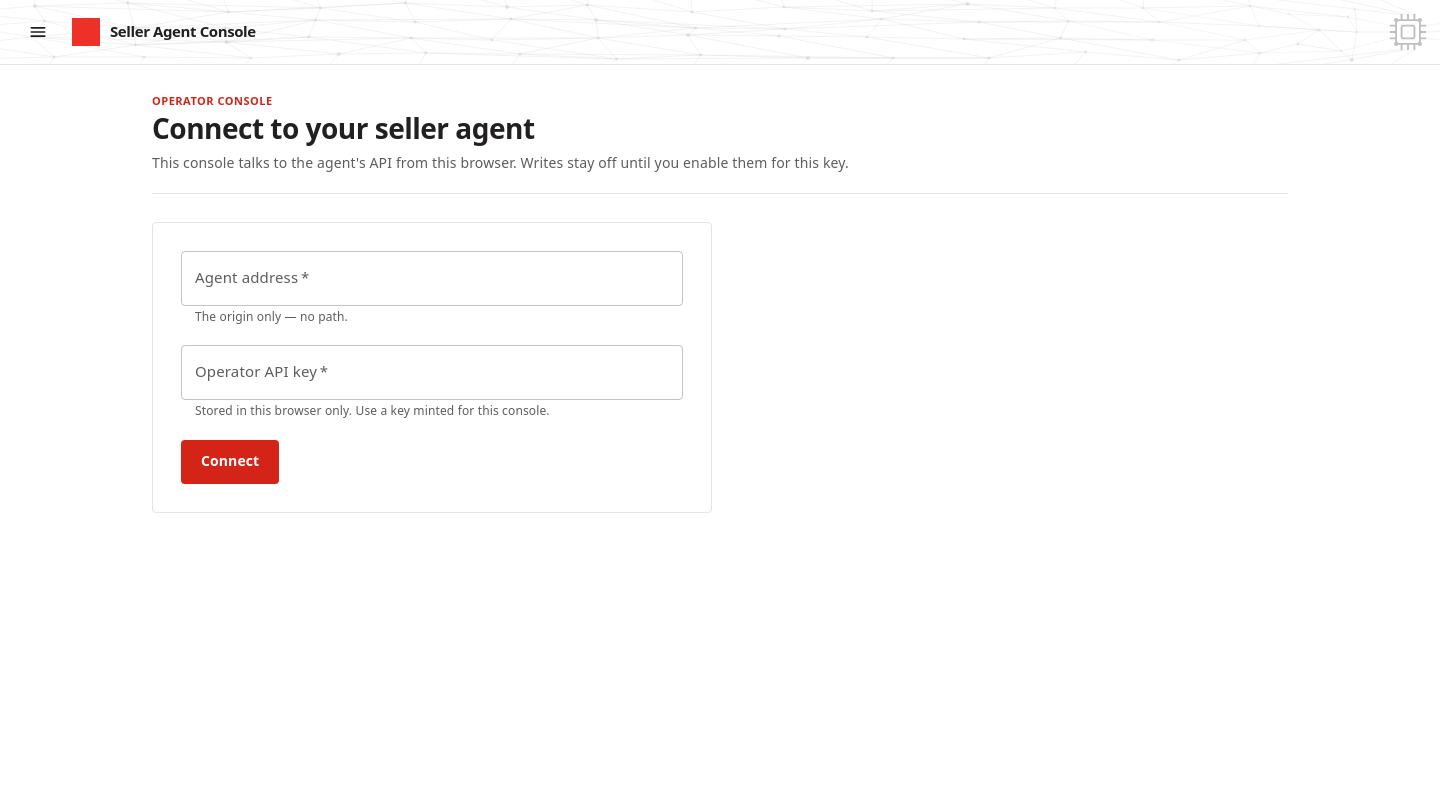
Scenario: responsive drawer › opens the temporary drawer from the menu button on mobile
Click the button named "open navigation": x=38, y=32 [20,14,56,50]
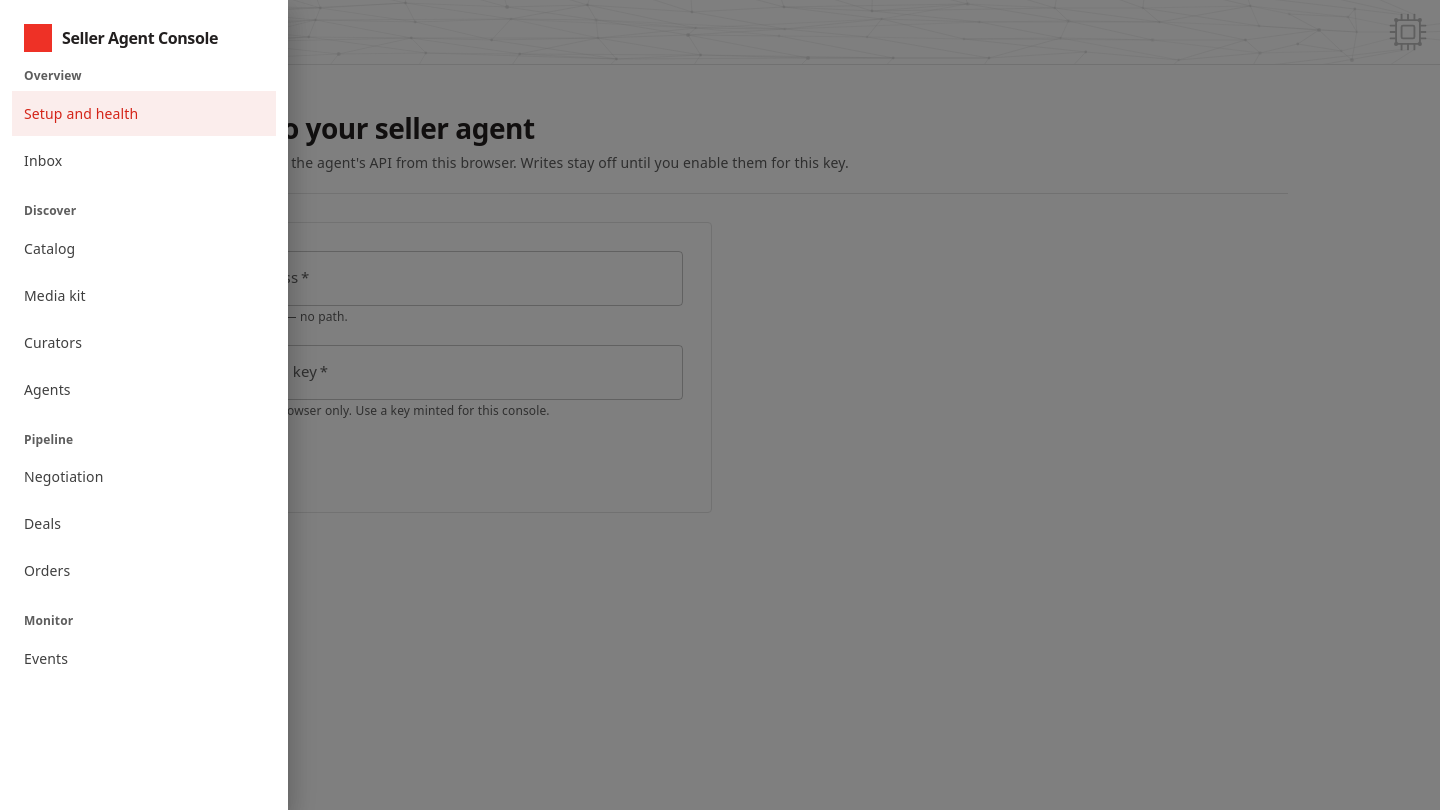
Check: the button named "open navigation" is expanded, box [20,14,56,50]
Check: the link "Setup and health" is shown, box [12,91,276,136]
